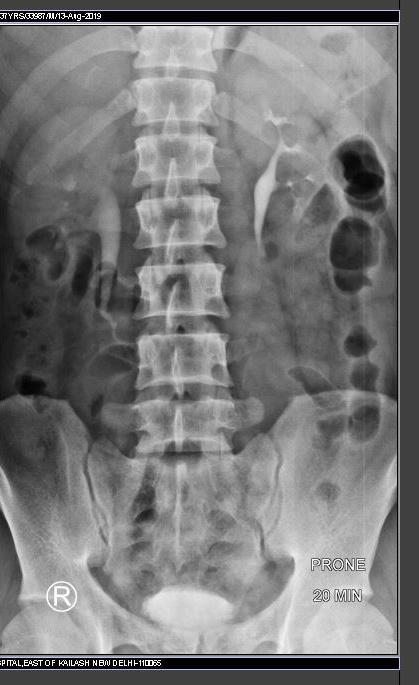bladder: (109, 533, 273, 630)
left kidney: (225, 64, 370, 288)
right kidney: (5, 102, 130, 319)
vertebrae: (130, 133, 224, 190)
